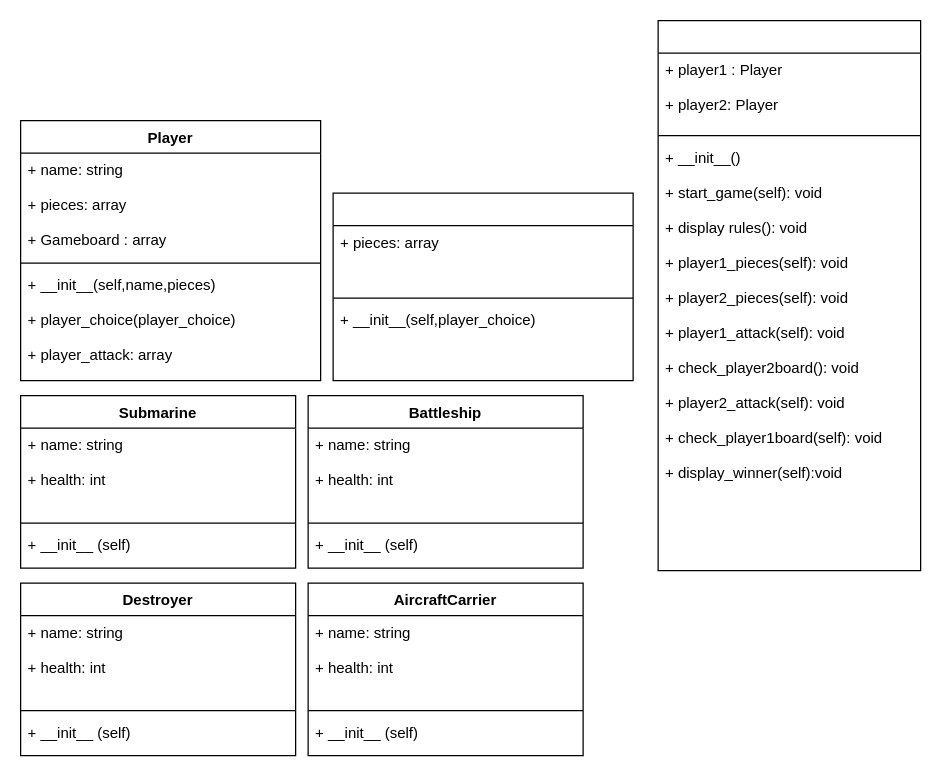
Image size: 941x776. Some labels were removed from this diagram. The box of each missing label's shape, as (x1, y1, x2, y2) in pixels:
Battlefield: (657, 19, 921, 571)
Gameboard: (332, 192, 633, 381)
